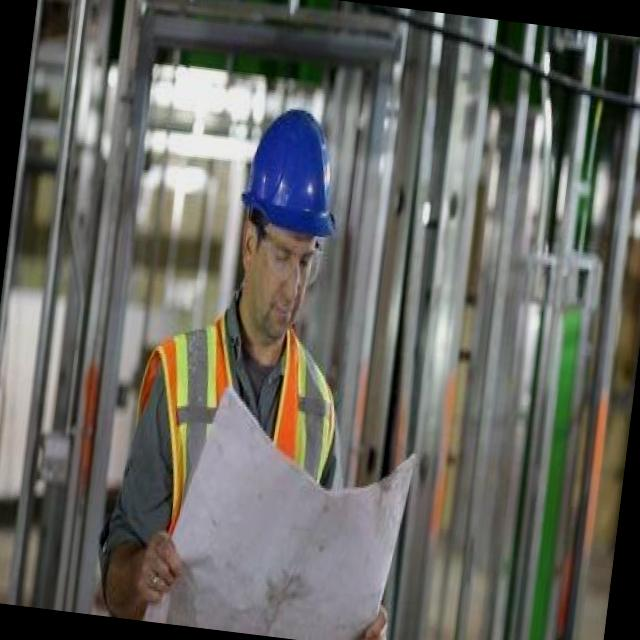helmet: (230, 99, 350, 242)
vest: (126, 312, 347, 582)
